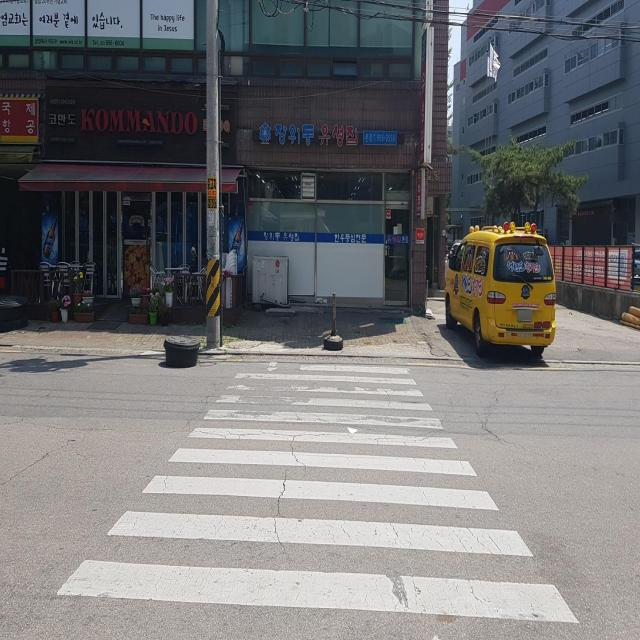횡단보도: (52, 355, 583, 640)
